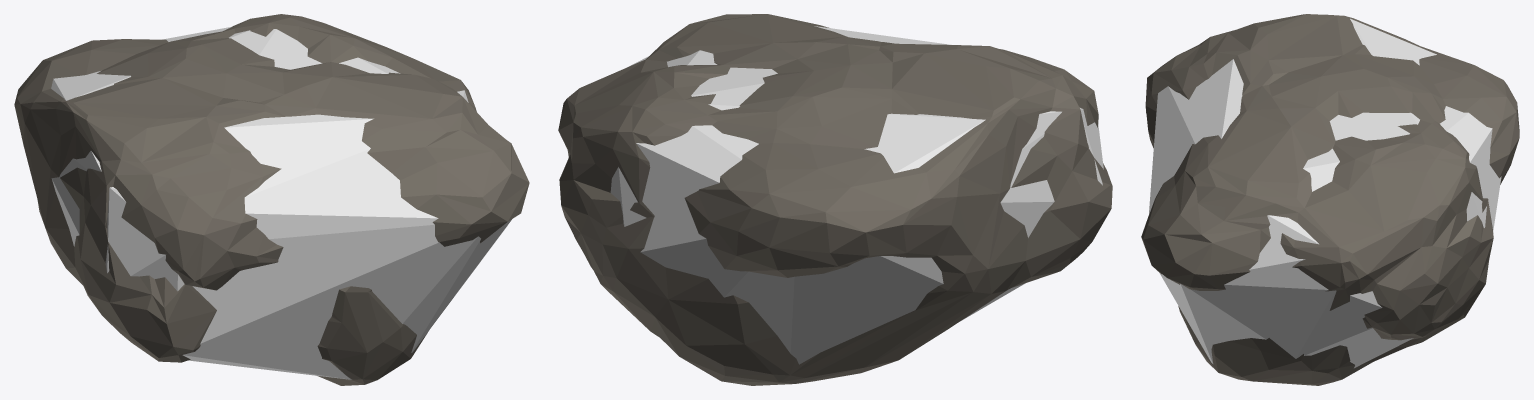
File: SM_Env_Asteroid_03.fbx
The picture shows the model from 3 angles, left to right: view 1: azimuth 30°, elevation 25°; view 2: azimuth 150°, elevation 25°; view 3: azimuth 270°, elevation 25°; orthographic projection. The views are drawn at different scales.
Parts seen in each view (by area): view 1: SM_Env_Asteroid_03_LOD0, SM_Env_Asteroid_03_ConvexHulls; view 2: SM_Env_Asteroid_03_LOD0, SM_Env_Asteroid_03_ConvexHulls; view 3: SM_Env_Asteroid_03_LOD0, SM_Env_Asteroid_03_ConvexHulls.
Part boxes in pixels (<box>): SM_Env_Asteroid_03_LOD0: <box>14,14,529,385</box>; SM_Env_Asteroid_03_ConvexHulls: <box>51,26,511,379</box>; SM_Env_Asteroid_03_LOD0: <box>558,14,1112,385</box>; SM_Env_Asteroid_03_ConvexHulls: <box>610,26,1103,364</box>; SM_Env_Asteroid_03_LOD0: <box>1141,14,1519,385</box>; SM_Env_Asteroid_03_ConvexHulls: <box>1148,18,1501,368</box>.
Bounding box in the file's own units: 779 × 920 × 615.
1 material, 1 textured.
